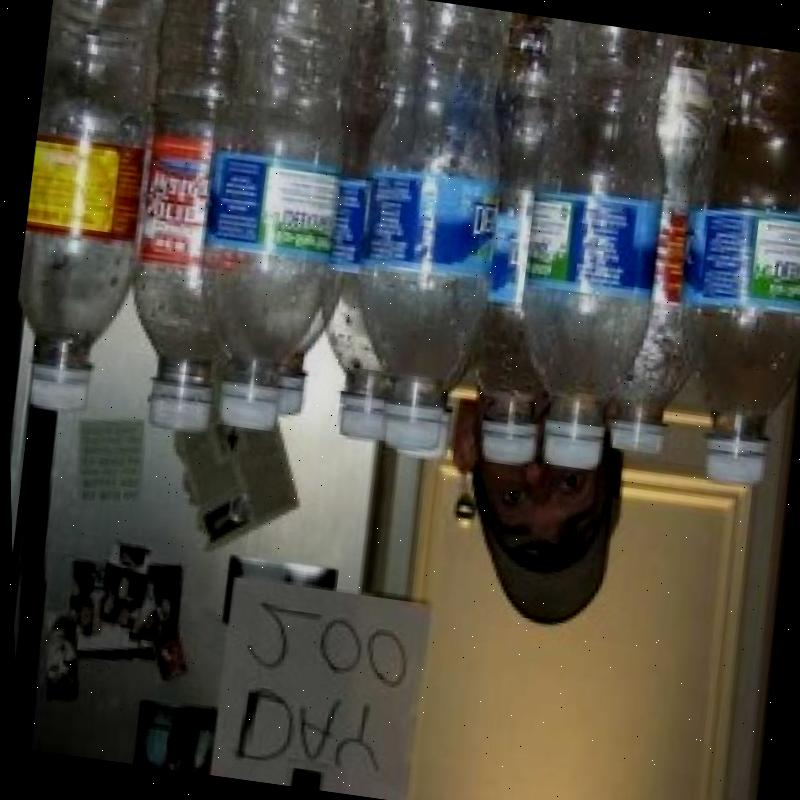botella: (497, 20, 695, 478), (173, 0, 372, 441), (335, 0, 520, 455), (0, 0, 180, 420), (109, 0, 275, 436), (650, 39, 800, 492), (452, 12, 594, 468), (593, 31, 733, 461), (308, 0, 439, 440), (271, 308, 331, 418)
